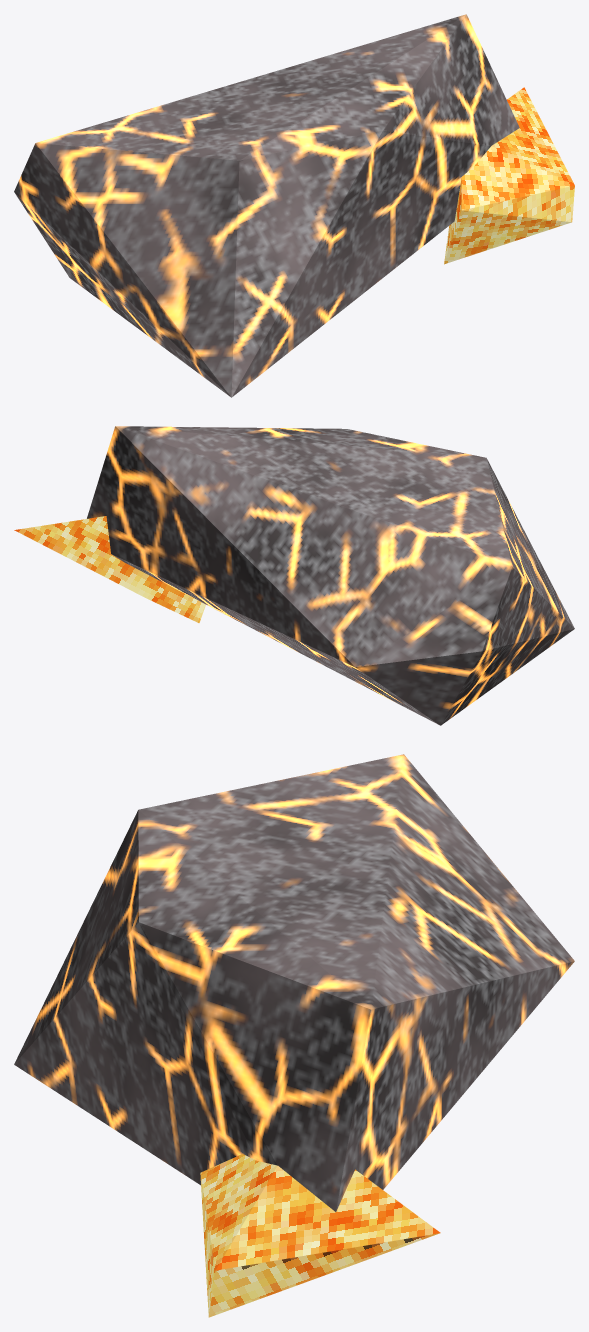
File: debris_01.glb
The picture shows the model from 3 angles, top to bottom: view 1: azimuth 30°, elevation 25°; view 2: azimuth 150°, elevation 25°; view 3: azimuth 270°, elevation 25°; orthographic projection. The views are drawn at different scales.
Parts seen in each view (by area): view 1: debris_01_hull, debris_01_hot; view 2: debris_01_hull, debris_01_hot; view 3: debris_01_hull, debris_01_hot.
Part boxes in pixels (x1,y1,x2,y2): debris_01_hull: (14, 14, 519, 397); debris_01_hot: (444, 87, 574, 264); debris_01_hull: (87, 426, 574, 725); debris_01_hot: (14, 516, 205, 622); debris_01_hull: (14, 754, 574, 1211); debris_01_hot: (200, 1154, 440, 1317).
Size of the model in its own units: 2.67 by 1.1 by 1.73.
Materials: 2 (2 with a texture image).
